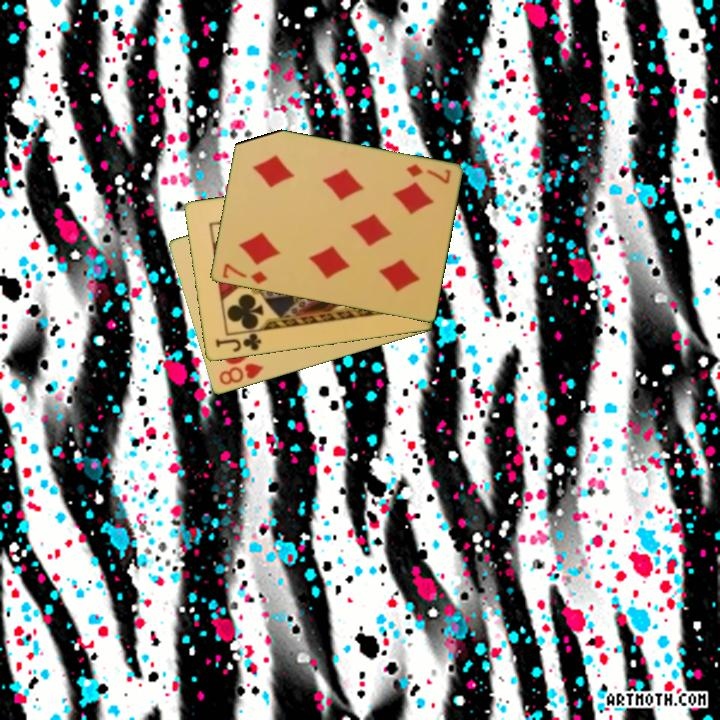7d: (219, 260, 270, 287), (402, 161, 453, 187)
8h: (215, 359, 266, 388)
Jc: (212, 328, 265, 355)
